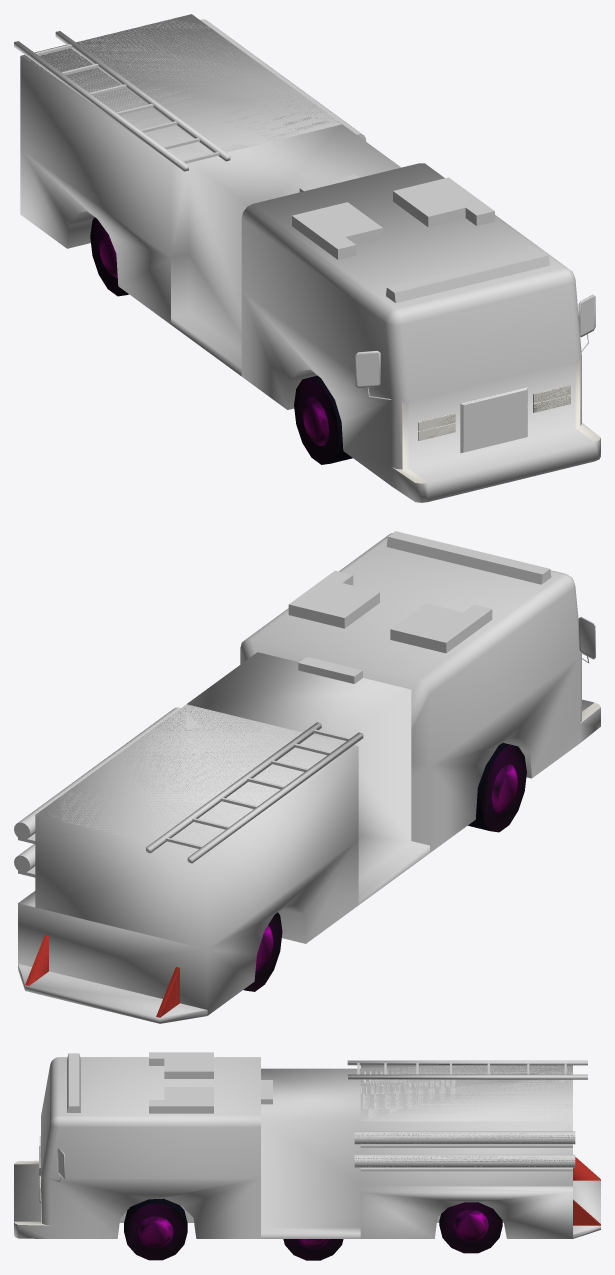
The model's file is truck6.glb.
The picture shows the model from 3 angles, top to bottom: view 1: azimuth 30°, elevation 25°; view 2: azimuth 150°, elevation 25°; view 3: azimuth 270°, elevation 25°; orthographic projection. The views are drawn at different scales.
Parts seen in each view (by area): view 1: body0, body2; view 2: body0, body2; view 3: body0, body2, wheel0.
Boxes of the visible parts, x1=… form: body0: x1=14, y1=14, x2=600, y2=502; body2: x1=22, y1=19, x2=570, y2=464; body0: x1=14, y1=531, x2=600, y2=1023; body2: x1=28, y1=705, x2=526, y2=1017; body0: x1=14, y1=1052, x2=600, y2=1238; body2: x1=39, y1=1065, x2=599, y2=1260; wheel0: x1=283, y1=1239, x2=343, y2=1260.
Size of the model in its own units: 2.73 by 2.73 by 8.2.
